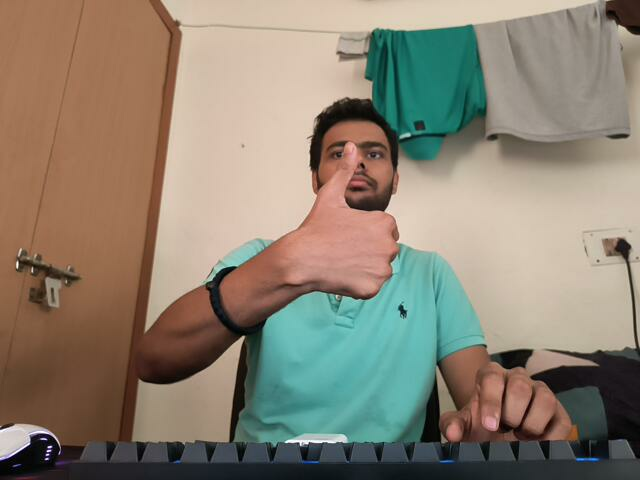ThumbsUp: (297, 140, 401, 300)
